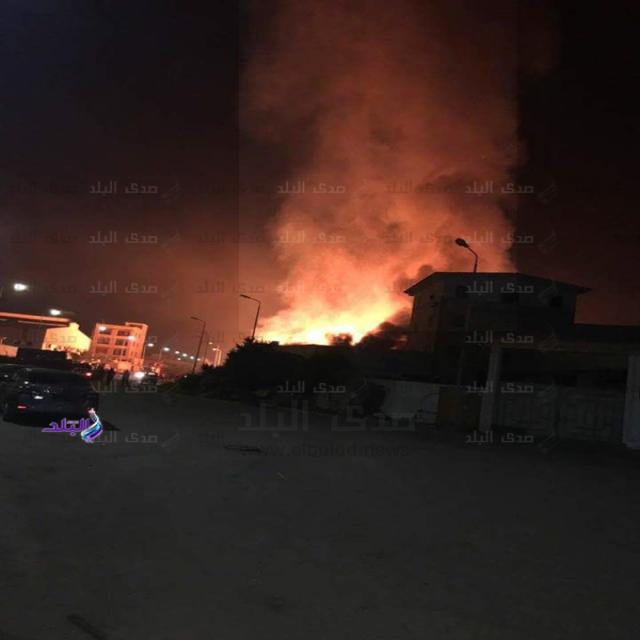Fire: (264, 296, 414, 352)
Smoke: (239, 0, 517, 331)
